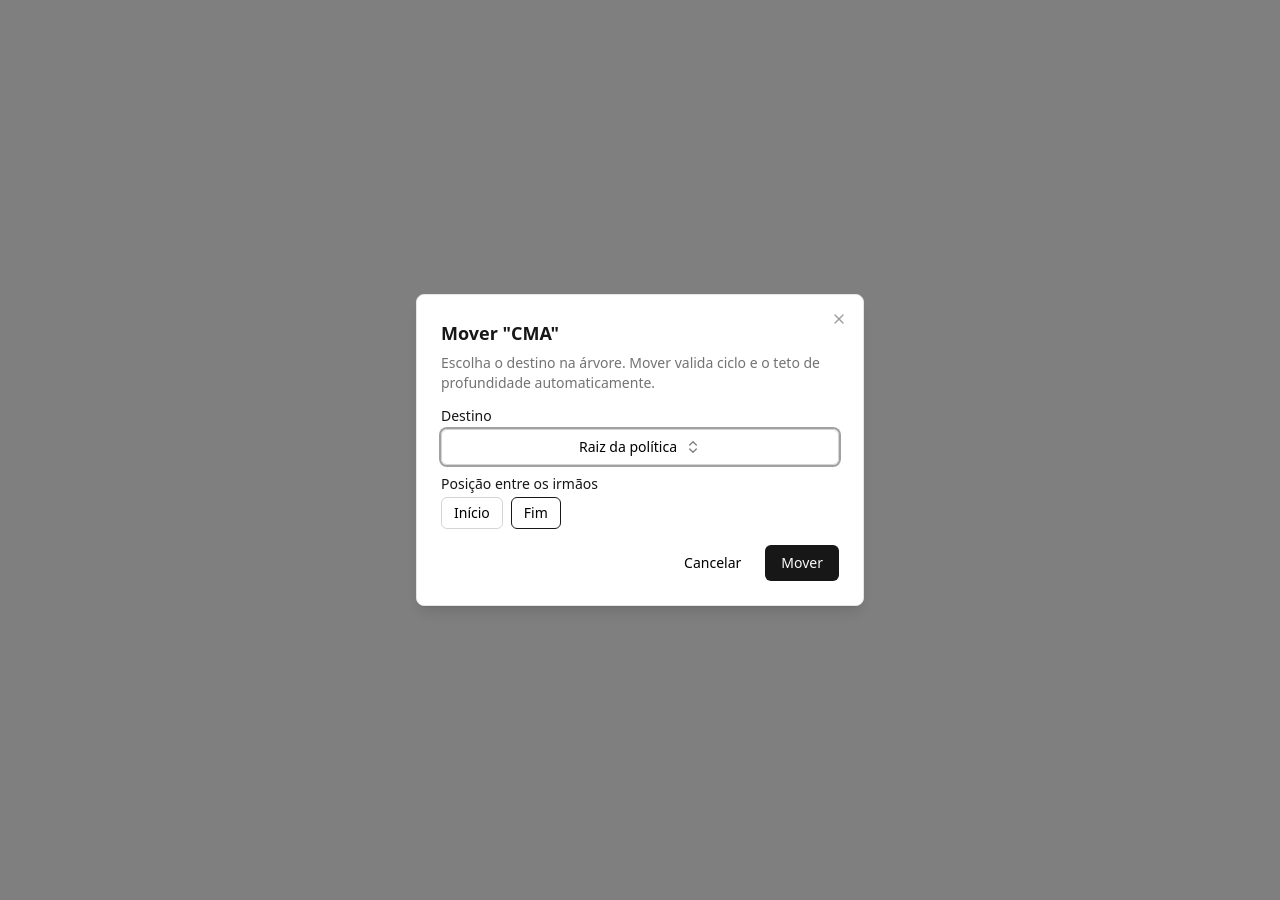
it: MoveComponentDialog › não oferece o próprio nó nem seus descendentes como destino
Click the dropdown named "Destino" at (640, 447), box [441,429,839,465]
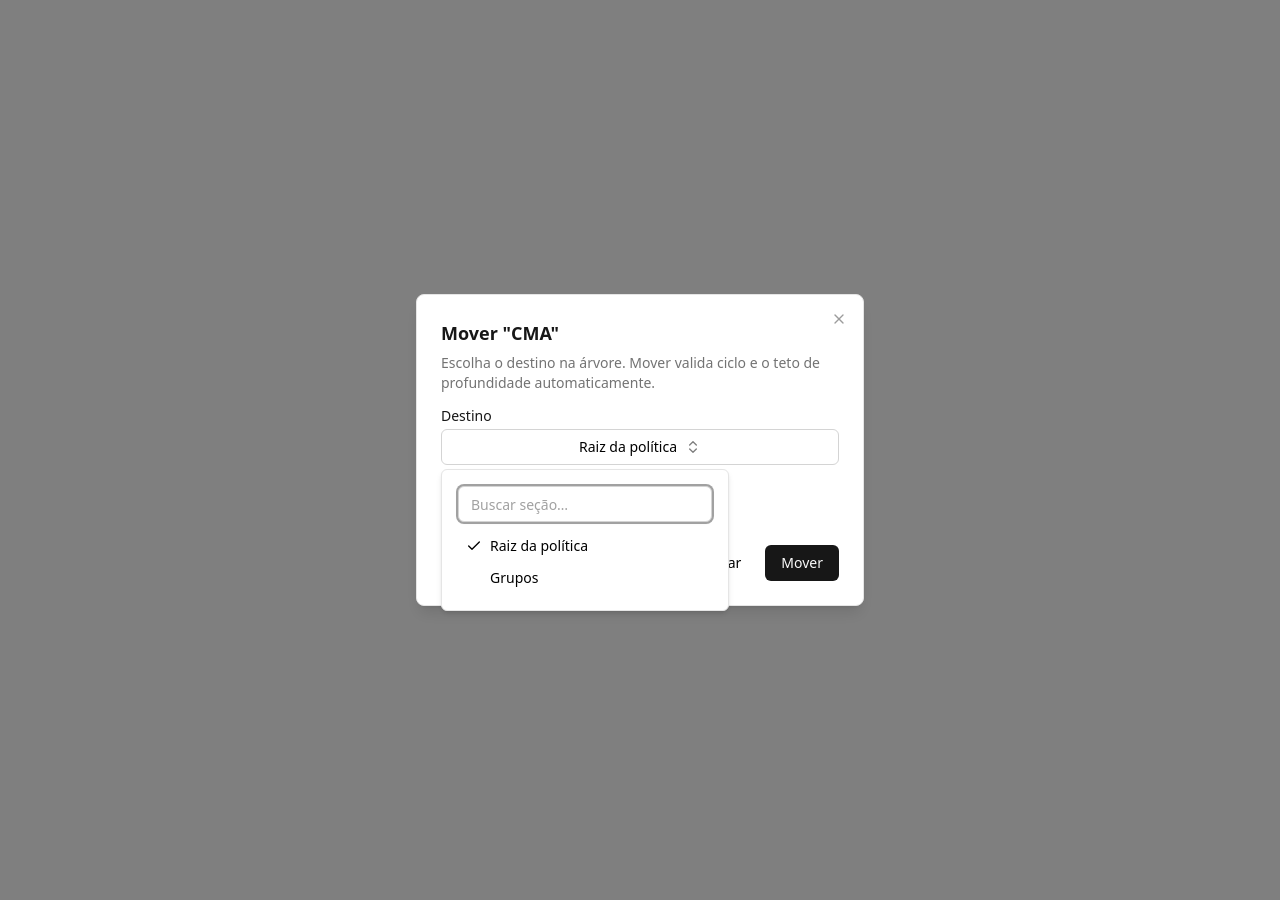
Result: the option "Grupos" is shown at [458,562,712,594]
